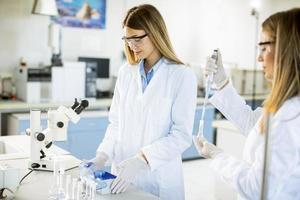Bata-Correcta: (88, 4, 195, 199)
